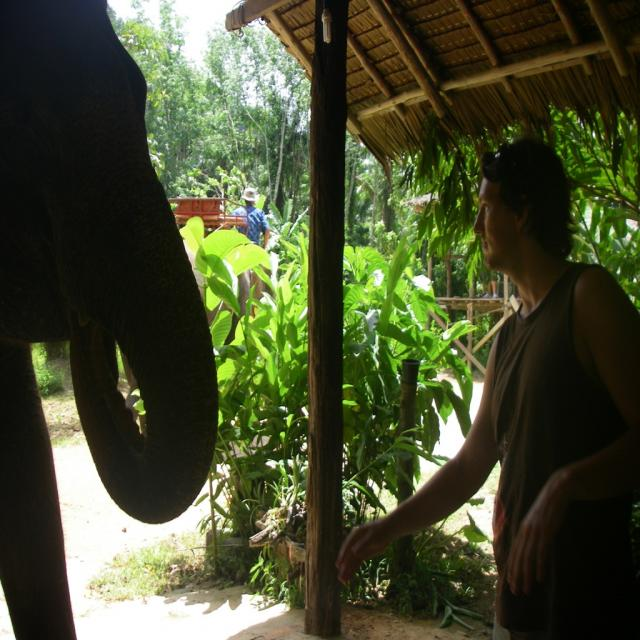elephant: (17, 0, 224, 589)
